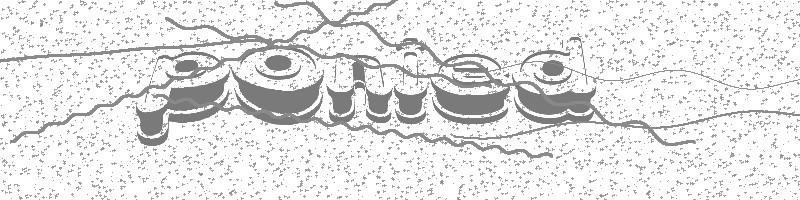d: (509, 37, 597, 126)
e: (430, 55, 511, 124)
i: (391, 47, 428, 120)
n: (321, 46, 393, 123)
o: (225, 42, 324, 126)
p: (128, 49, 232, 149)
